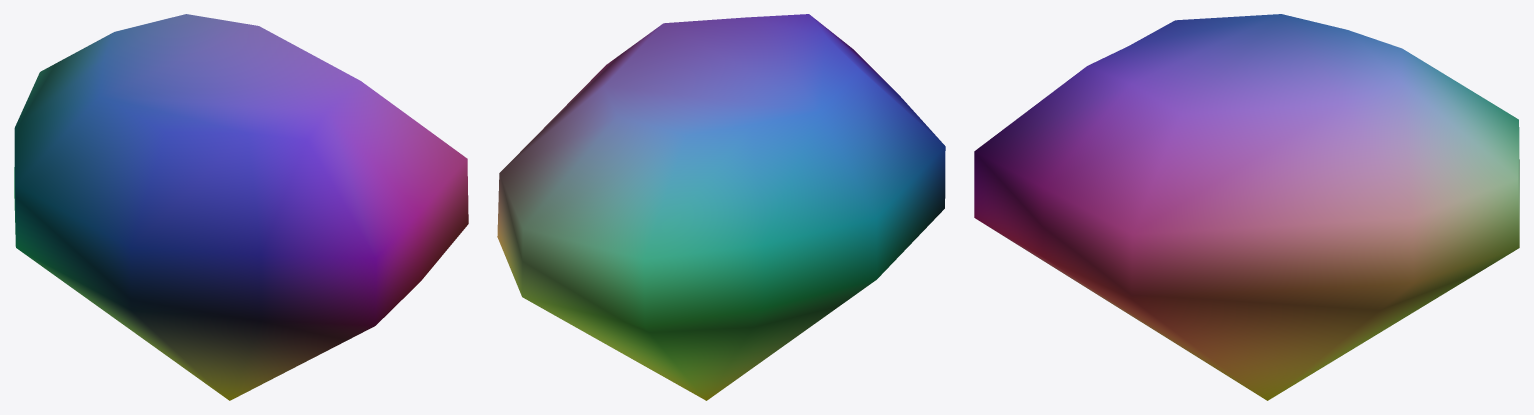
File: SM_Pickup_Gem_Sapphire_1.fbx
3 views of the same model, side by side, from view 1: azimuth 30°, elevation 25°; view 2: azimuth 150°, elevation 25°; view 3: azimuth 270°, elevation 25° (orthographic).
Visible parts, largest first — view 1: SM_Pickup_Gem_Sapphire_1; view 2: SM_Pickup_Gem_Sapphire_1; view 3: SM_Pickup_Gem_Sapphire_1.
Part boxes in pixels (<box>): SM_Pickup_Gem_Sapphire_1: <box>14,14,468,400</box>; SM_Pickup_Gem_Sapphire_1: <box>497,14,945,400</box>; SM_Pickup_Gem_Sapphire_1: <box>974,14,1519,400</box>.
Size of the model in its own units: 0.0812 by 0.0709 by 0.106.
